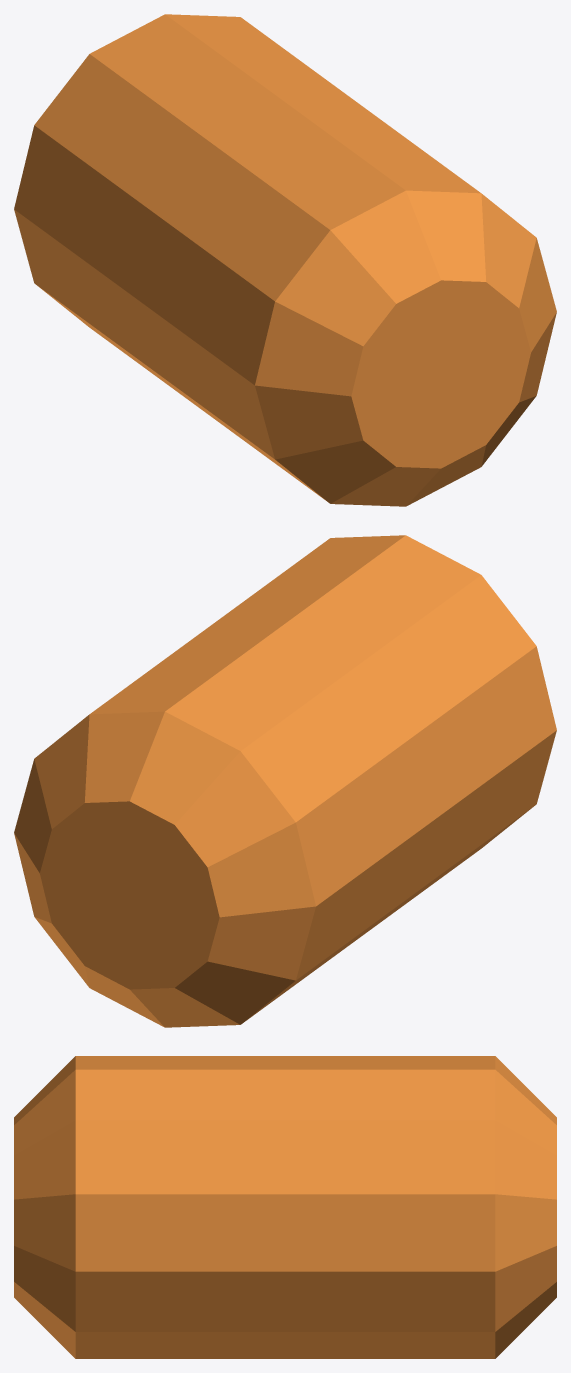
The model's file is tank_fuel_a.glb.
3 views of the same model, one above another, from view 1: azimuth 30°, elevation 25°; view 2: azimuth 150°, elevation 25°; view 3: azimuth 270°, elevation 25° (orthographic). The views are drawn at different scales.
Visible parts, largest first — view 1: tank_fuel_a-convcol; view 2: tank_fuel_a-convcol; view 3: tank_fuel_a-convcol.
Boxes of the visible parts, x1,y1,x2,y2 form: tank_fuel_a-convcol: (14,14,556,506); tank_fuel_a-convcol: (14,535,556,1027); tank_fuel_a-convcol: (14,1056,556,1358).
Bounding box in the file's own units: 0.84 × 0.84 × 1.5.
